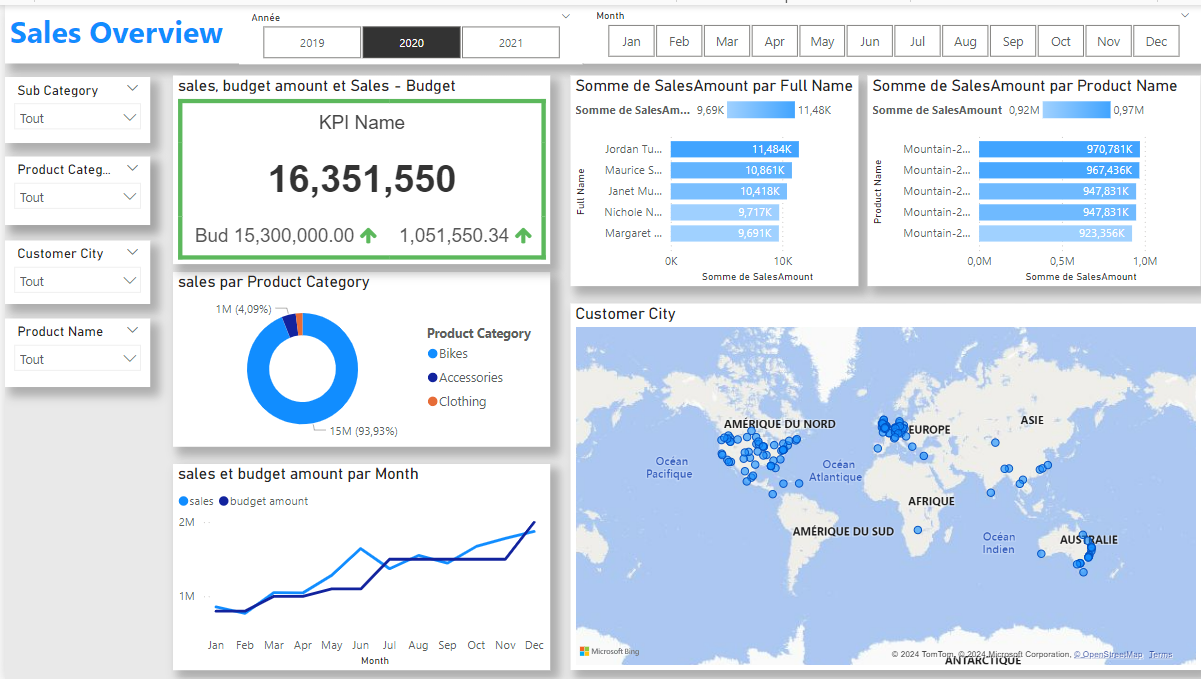

The page's visual inventory and layout, read from the dashboard file:
{"tool":"powerbi","page":{"name":"Sales Overview","canvas":[1280,720],"ordinal":0},"visuals":[{"type":"textbox","box":[0,0,1269.3,62],"z":0},{"type":"slicer","fields":{"Values":["DIM_Products.Sub Category"]},"box":[0,75.7,154.3,70],"z":1000},{"type":"slicer","fields":{"Values":["DIM_Products.Product Category"]},"box":[0,160,154.3,72.9],"z":2000},{"type":"slicer","fields":{"Values":["DIM_Customers.Customer City"]},"box":[0,250,154.3,67.1],"z":3000},{"type":"slicer","fields":{"Values":["DIM_Products.Product Name"]},"box":[0,332.9,154.3,72.9],"z":4000},{"type":"slicer","fields":{"Values":["DIM_Calendarcsv.Date.Variation.Hiérarchie de dates.Année"]},"box":[248.6,1.4,364.3,61.4],"z":5000},{"type":"slicer","fields":{"Values":["DIM_Calendarcsv.MonthShort"]},"box":[613.3,0,655,61.7],"z":6000},{"type":"donutChart","fields":{"Category":["DIM_Products.Product Category"],"Y":["FACT_InternetSales.sales"]},"box":[178.3,283.3,400,185],"z":7000},{"type":"lineChart","fields":{"Y2":["FACT_InternetSales.sales","Budget.budget amount"],"Category":["DIM_Calendarcsv.MonthShort"]},"box":[178.3,486.7,400,218.3],"z":8000},{"type":"clusteredBarChart","fields":{"Y":["Sum(FACT_InternetSales.SalesAmount)"],"Category":["DIM_Customers.Full Name"]},"box":[600,75,305,223.3],"z":9000},{"type":"clusteredBarChart","fields":{"Category":["DIM_Products.Product Name"],"Y":["Sum(FACT_InternetSales.SalesAmount)"]},"box":[915,75,353.3,223.3],"z":10000},{"type":"map","fields":{"Category":["DIM_Customers.Customer City"]},"box":[600,316.7,668.3,388.3],"z":11000},{"type":"BBED0A4D4D8D44CE93CF2DAFADEE466C","fields":{"actual":["FACT_InternetSales.sales"],"target1":["Budget.budget amount"],"target2":["Measures Table.Sales - Budget"]},"box":[178.3,75,400,200],"z":12000}]}

Visuals, with their boxes in screenshot pixels (x1, y1, x2, y2), scaled from the page's 1280x720 canvas onto the 1201x679 screenshot:
textbox: (left=0, top=0, right=1191, bottom=58)
slicer - DIM_Products.Sub Category: (left=0, top=71, right=145, bottom=137)
slicer - DIM_Products.Product Category: (left=0, top=151, right=145, bottom=220)
slicer - DIM_Customers.Customer City: (left=0, top=236, right=145, bottom=299)
slicer - DIM_Products.Product Name: (left=0, top=314, right=145, bottom=383)
slicer - DIM_Calendarcsv.Date.Variation.Hiérarchie de dates.Année: (left=233, top=1, right=575, bottom=59)
slicer - DIM_Calendarcsv.MonthShort: (left=575, top=0, right=1190, bottom=58)
donutChart - DIM_Products.Product Category x FACT_InternetSales.sales: (left=167, top=267, right=543, bottom=442)
lineChart - FACT_InternetSales.sales x Budget.budget amount: (left=167, top=459, right=543, bottom=665)
clusteredBarChart - Sum(FACT_InternetSales.SalesAmount) x DIM_Customers.Full Name: (left=563, top=71, right=849, bottom=281)
clusteredBarChart - DIM_Products.Product Name x Sum(FACT_InternetSales.SalesAmount): (left=859, top=71, right=1190, bottom=281)
map - DIM_Customers.Customer City: (left=563, top=299, right=1190, bottom=665)
BBED0A4D4D8D44CE93CF2DAFADEE466C - FACT_InternetSales.sales x Budget.budget amount: (left=167, top=71, right=543, bottom=259)
